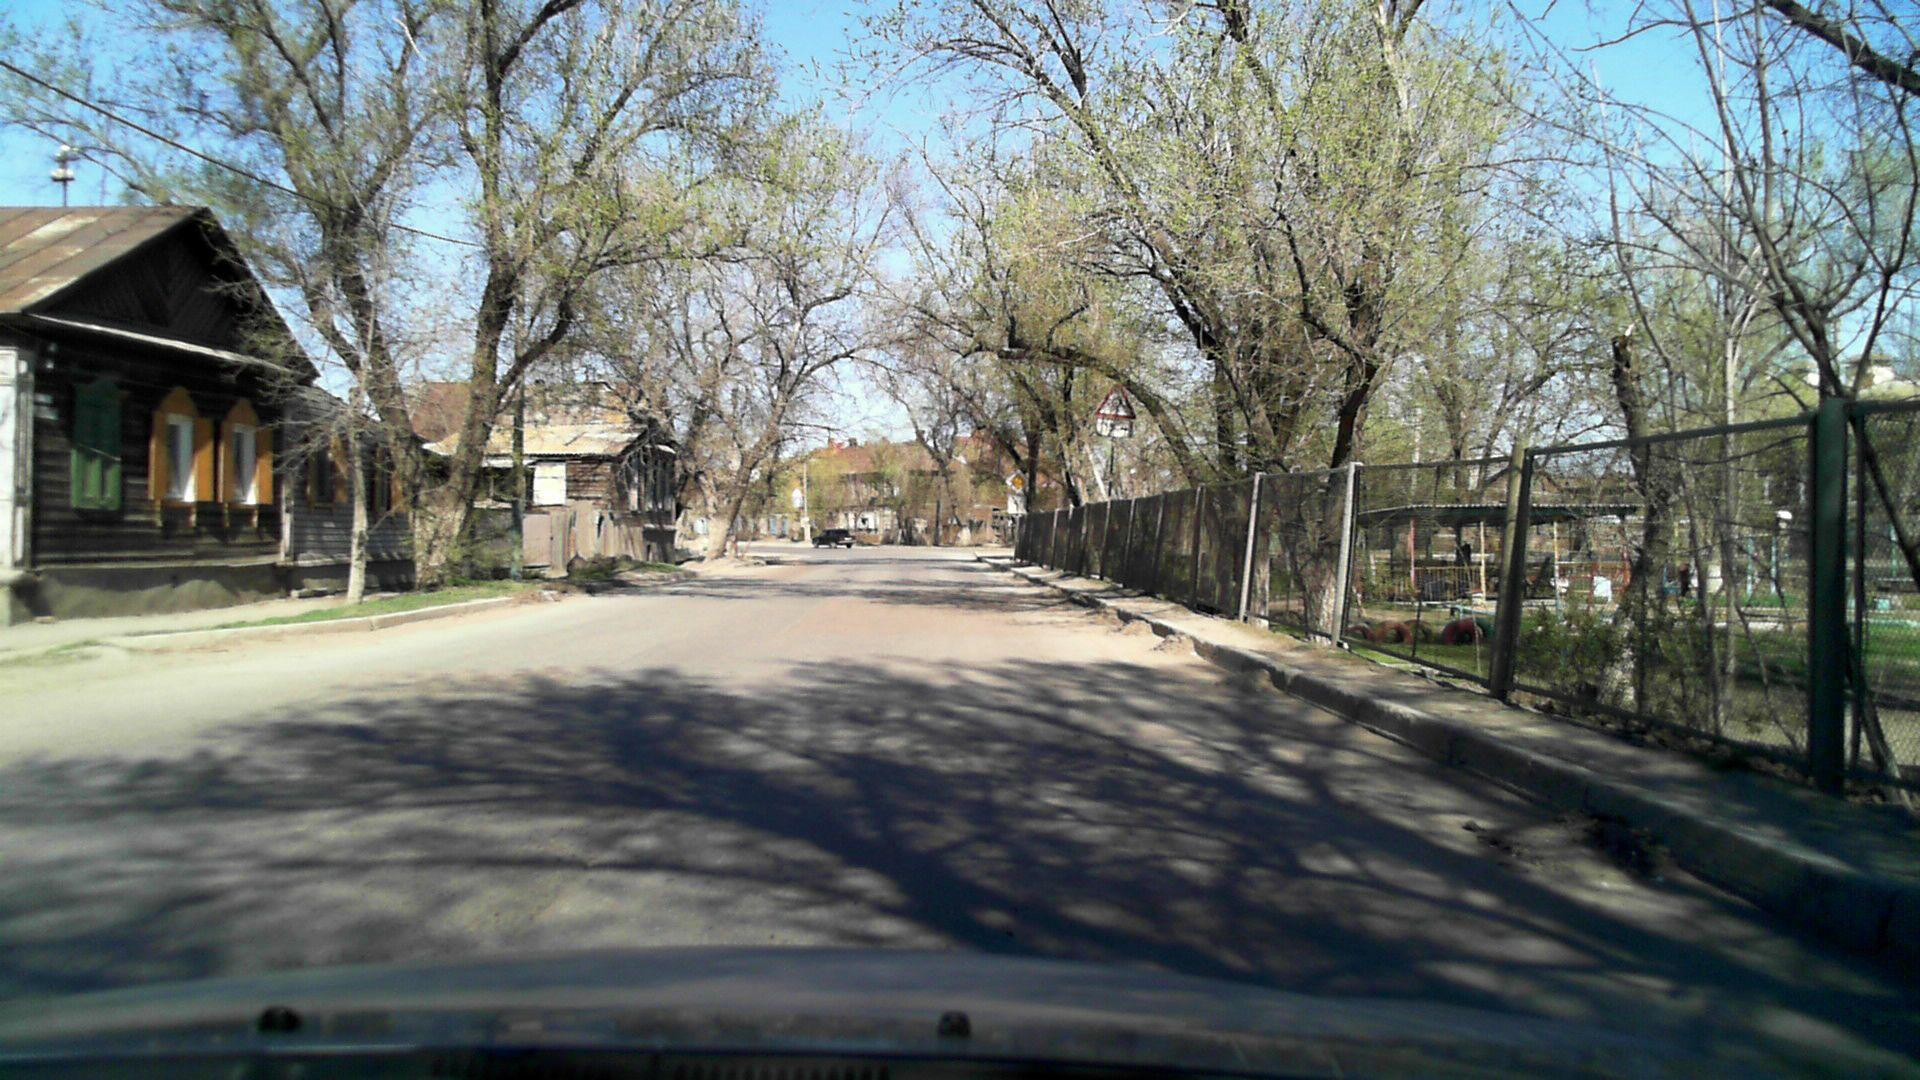1_23: (1092, 376, 1139, 417)
2_1: (1004, 468, 1029, 492)
8_13: (1006, 493, 1029, 513)
8_1_3: (1098, 415, 1135, 438)
